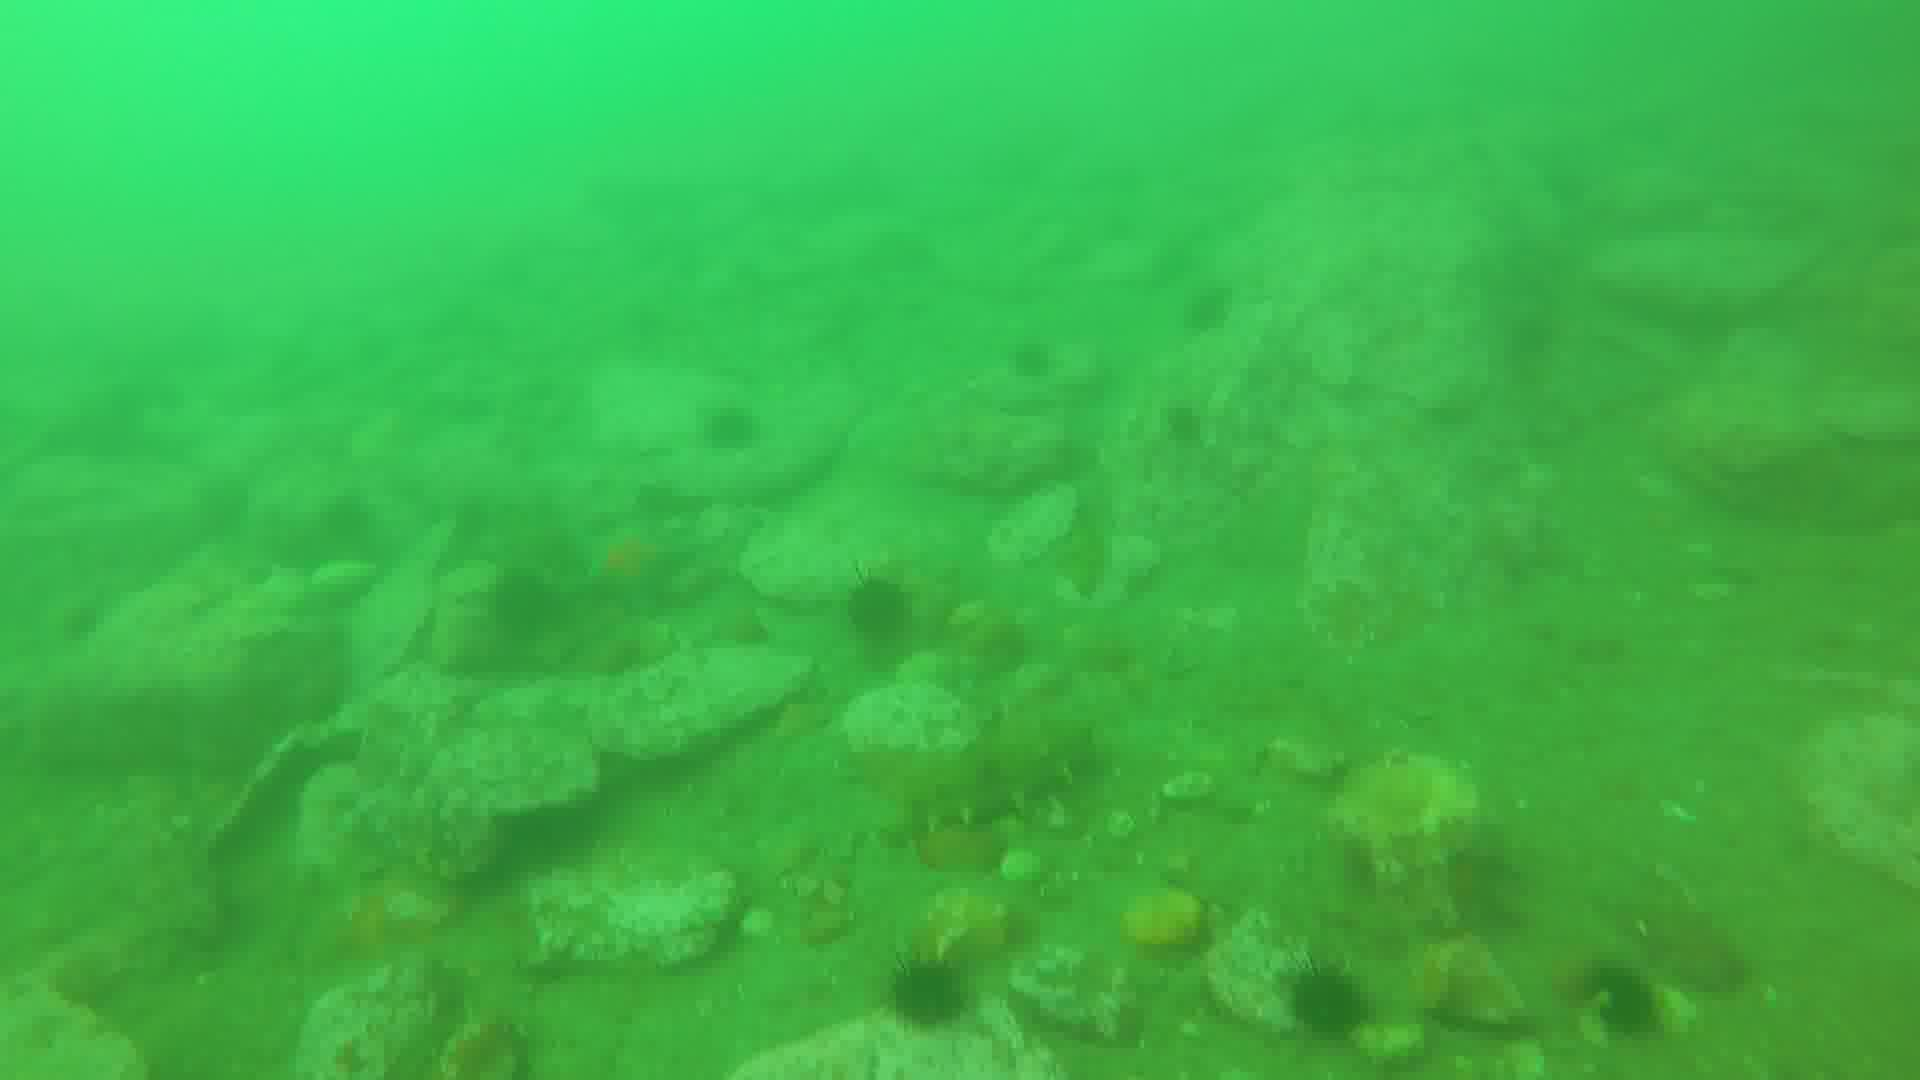echinus: (1288, 949, 1379, 1042), (884, 951, 976, 1033), (495, 564, 574, 651), (1582, 965, 1664, 1046), (848, 571, 913, 644), (691, 405, 764, 458)
holothurian: (897, 725, 1096, 832)
starfish: (576, 534, 702, 607)
